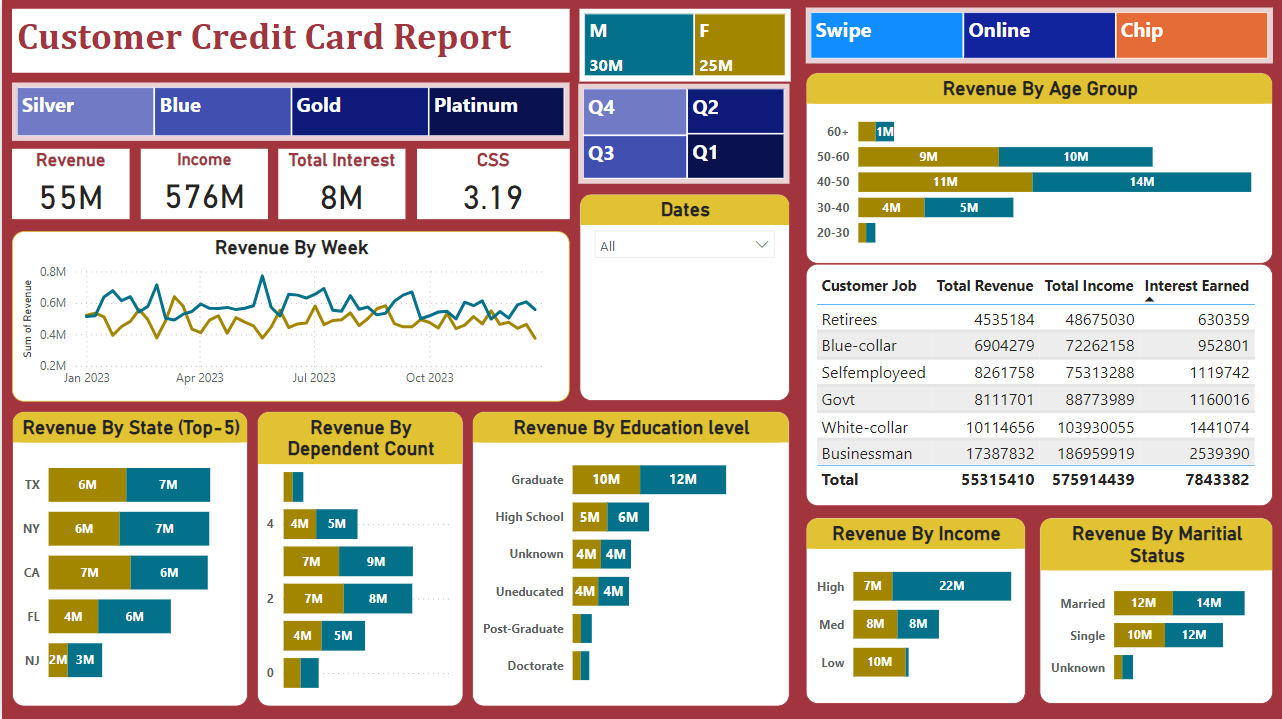

The page's visual inventory and layout, read from the dashboard file:
{"tool":"powerbi","page":{"name":"CC_Customer","canvas":[1280,720],"ordinal":2},"visuals":[{"type":"textbox","box":[10,8.8,557.5,63.8],"z":0},{"type":"barChart","title":"Revenue By Income","fields":{"Y":["Sum(public cc_detail.Revenue)"],"Category":["public cust_detail.IncomeGroup"],"Series":["public cust_detail.gender"]},"box":[803.8,517.5,220,186.2],"z":1000},{"type":"slicer","title":"Dates","fields":{"Values":["public cc_detail.week_start_date"]},"box":[577.5,193.8,210,207.5],"z":2000},{"type":"treemap","fields":{"Group":["public cc_detail.qtr"],"Values":["Avg(public cc_detail.client_num)"]},"box":[576.2,83.8,211.2,100],"z":3000},{"type":"treemap","fields":{"Group":["public cc_detail.card_category","public cc_detail.qtr"],"Values":["Avg(public cc_detail.client_num)"]},"box":[10,82.5,557.5,58.8],"z":4000},{"type":"card","title":"Revenue","fields":{"Values":["Sum(public cc_detail.Revenue)"]},"box":[10,148.8,117.5,70],"z":5000},{"type":"card","title":"Total Interest","fields":{"Values":["Sum(public cc_detail.interest_earned)"]},"box":[276.2,148.8,127.5,70],"z":6000},{"type":"card","title":"Income","fields":{"Values":["Sum(public cust_detail.income)"]},"box":[138.6,148.6,127.1,70],"z":7000},{"type":"card","title":"CSS","fields":{"Values":["Avg(public cust_detail.cust_satisfaction_score)"]},"box":[415,148.8,152.5,70],"z":8000},{"type":"lineChart","title":"Revenue By Week","fields":{"Y":["Sum(public cc_detail.Revenue)"],"Series":["public cust_detail.gender"],"Category":["public cc_detail.week_start_date.Variation.Date Hierarchy.Year","public cc_detail.week_start_date.Variation.Date Hierarchy.Month","public cc_detail.week_start_date.Variation.Date Hierarchy.Day"]},"box":[10,231.2,557.5,170],"z":9000},{"type":"treemap","fields":{"Group":["public cust_detail.gender"],"Values":["Sum(public cc_detail.Revenue)"]},"box":[577.5,8.8,211.2,72.5],"z":10000},{"type":"tableEx","fields":{"Values":["public cust_detail.customer_job","Sum(public cc_detail.Revenue)","Sum(public cust_detail.income)","Sum(public cc_detail.interest_earned)"]},"box":[803.8,263.8,467.5,242.5],"z":11000},{"type":"barChart","title":"Revenue By Age Group","fields":{"Y":["Sum(public cc_detail.Revenue)"],"Category":["public cust_detail.AgeGroup"],"Series":["public cust_detail.gender"]},"box":[803.8,72.5,467.5,191.2],"z":12000},{"type":"barChart","title":"Revenue By Dependent Count","fields":{"Y":["Sum(public cc_detail.Revenue)"],"Category":["public cust_detail.dependent_count"],"Series":["public cust_detail.gender"]},"box":[255,411.2,206.2,295],"z":13000},{"type":"barChart","title":"Revenue By Education level","fields":{"Y":["Sum(public cc_detail.Revenue)"],"Category":["public cust_detail.education_level"],"Series":["public cust_detail.gender"]},"box":[470,411.2,317.5,295],"z":14000},{"type":"barChart","title":"Revenue By State (Top-5)","fields":{"Y":["Sum(public cc_detail.Revenue)"],"Category":["public cust_detail.state_cd"],"Series":["public cust_detail.gender"]},"box":[10,411.2,236.2,295],"z":15000},{"type":"barChart","title":"Revenue By Maritial Status","fields":{"Y":["Sum(public cc_detail.Revenue)"],"Category":["public cust_detail.marital_status"],"Series":["public cust_detail.gender"]},"box":[1037.5,517.5,233.8,186.2],"z":16000},{"type":"treemap","fields":{"Group":["public cc_detail.use_chip"],"Values":["Avg(public cc_detail.client_num)"]},"box":[803.8,7.5,467.5,56.2],"z":17000}]}

Visuals, with their boxes in screenshot pixels (x1, y1, x2, y2), scaled from the page's 1280x720 canvas onto the 1282x719 screenshot:
textbox: (10, 9, 568, 72)
"Revenue By Income" barChart: (805, 517, 1025, 703)
"Dates" slicer: (578, 194, 789, 401)
treemap - public cc_detail.qtr x Avg(public cc_detail.client_num): (577, 84, 789, 184)
treemap - public cc_detail.card_category x public cc_detail.qtr: (10, 82, 568, 141)
"Revenue" card: (10, 149, 128, 218)
"Total Interest" card: (277, 149, 404, 218)
"Income" card: (139, 148, 266, 218)
"CSS" card: (416, 149, 568, 218)
"Revenue By Week" lineChart: (10, 231, 568, 401)
treemap - public cust_detail.gender x Sum(public cc_detail.Revenue): (578, 9, 790, 81)
tableEx - public cust_detail.customer_job x Sum(public cc_detail.Revenue): (805, 263, 1273, 506)
"Revenue By Age Group" barChart: (805, 72, 1273, 263)
"Revenue By Dependent Count" barChart: (255, 411, 462, 705)
"Revenue By Education level" barChart: (471, 411, 789, 705)
"Revenue By State (Top-5)" barChart: (10, 411, 247, 705)
"Revenue By Maritial Status" barChart: (1039, 517, 1273, 703)
treemap - public cc_detail.use_chip x Avg(public cc_detail.client_num): (805, 7, 1273, 64)
